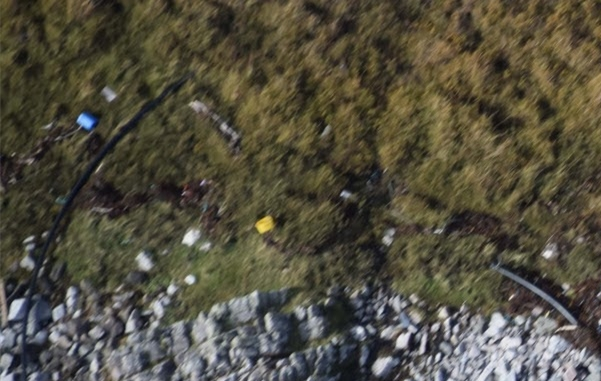scattered_barrel: (58, 75, 297, 239)
tube: (8, 227, 57, 380), (486, 259, 583, 327), (51, 132, 119, 227)
